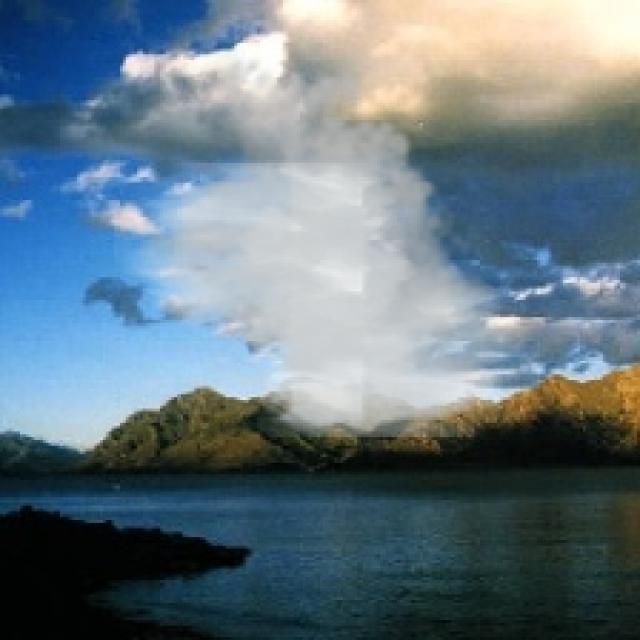Smoke: (115, 46, 540, 437)
